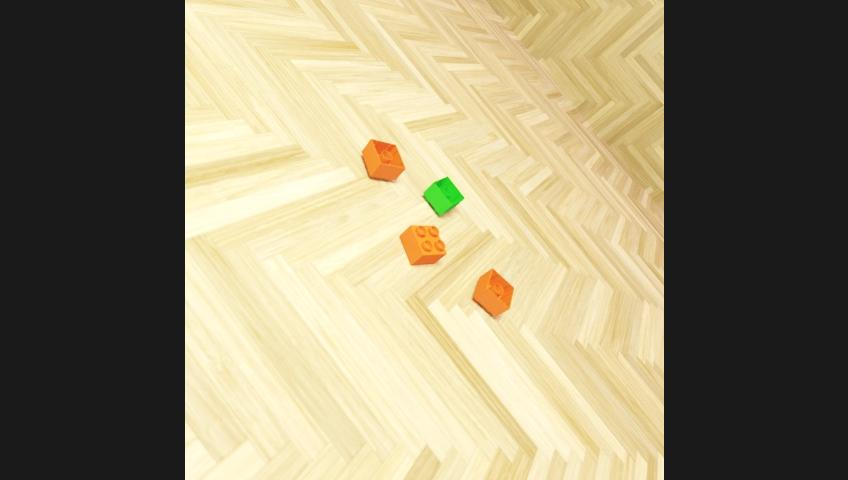2x2_green: (423, 176, 465, 213)
2x2_orange: (473, 268, 514, 316), (399, 225, 447, 264), (361, 138, 406, 179)
